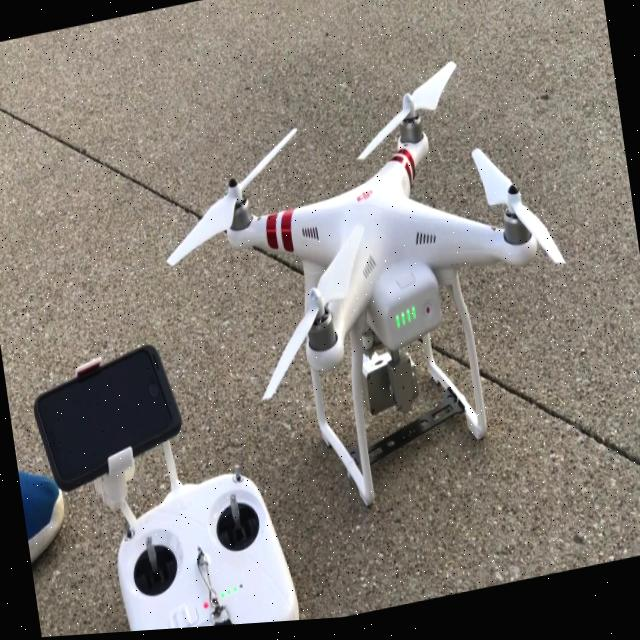drone: (3, 243, 640, 640)
